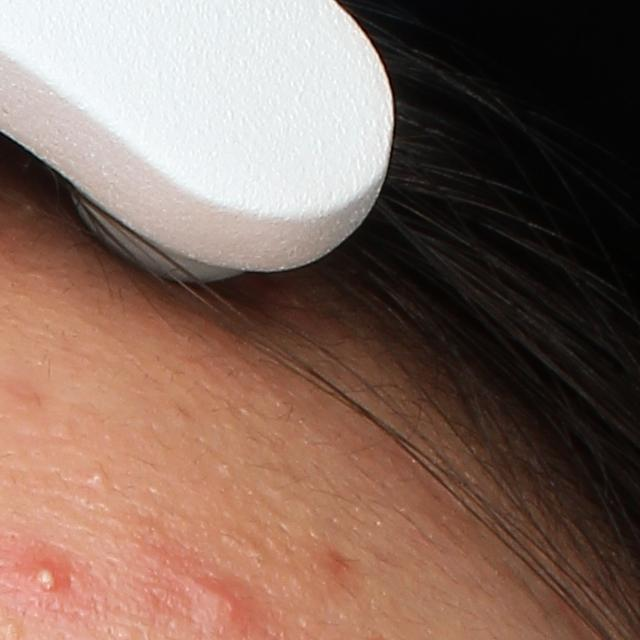comedo: (86, 468, 111, 490), (3, 616, 25, 638)
pustule: (32, 560, 61, 596)
